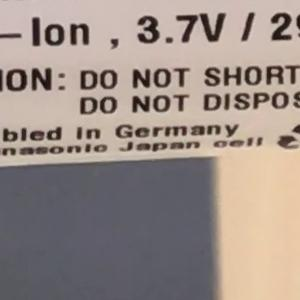keyword: (127, 3, 233, 54)
